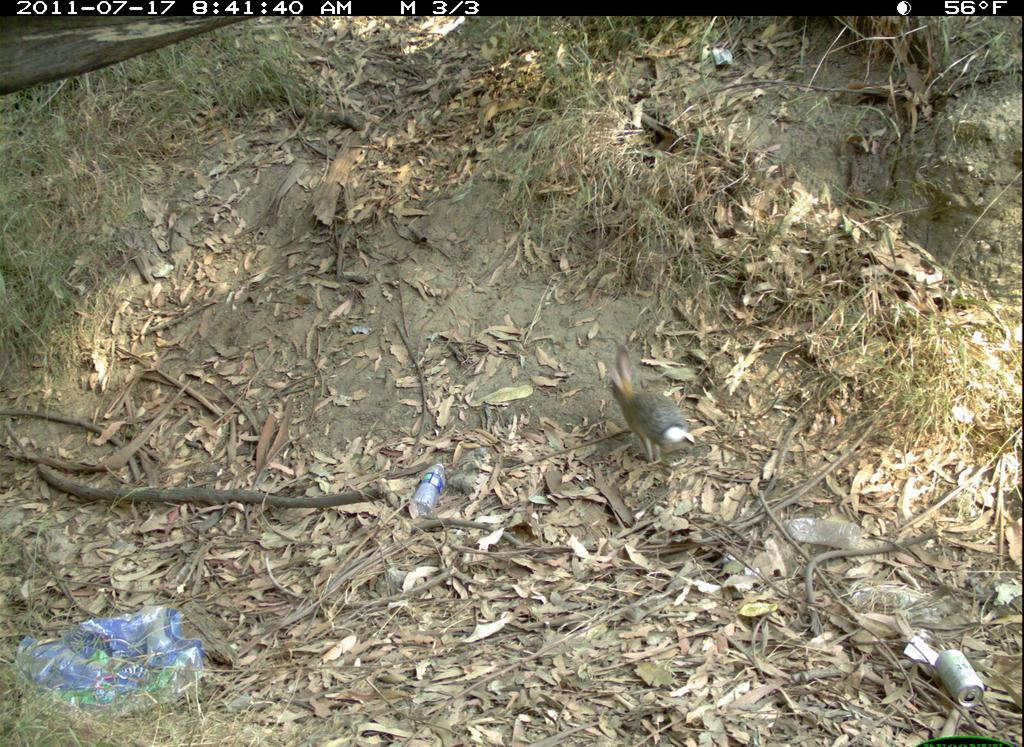rabbit: (600, 345, 702, 469)
